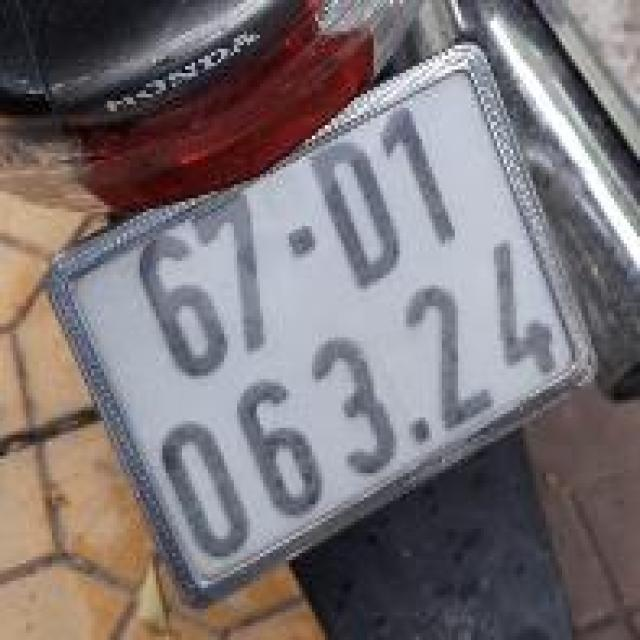0: (153, 386, 276, 577)
1: (365, 93, 462, 259)
2: (390, 278, 502, 438)
3: (293, 326, 419, 498)
4: (469, 226, 581, 397)
6: (115, 227, 240, 404), (225, 369, 345, 535)
7: (189, 177, 293, 369)
D: (292, 124, 415, 309)
